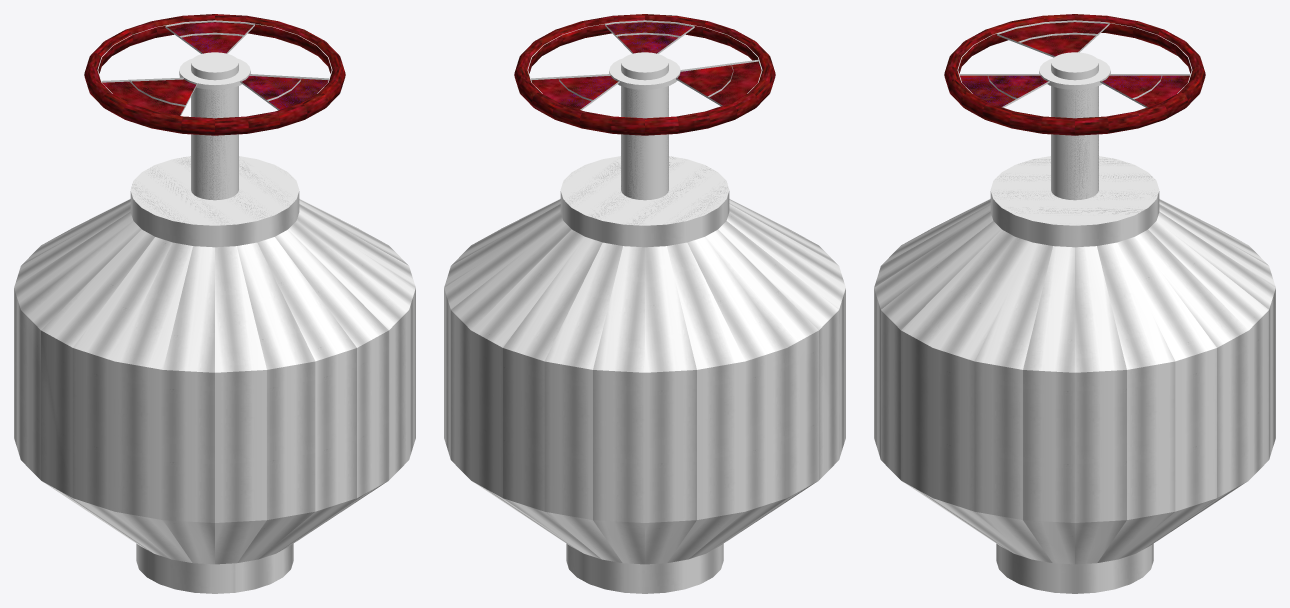
File: 排水管阀门.dae
The picture shows the model from 3 angles, left to right: view 1: azimuth 30°, elevation 25°; view 2: azimuth 150°, elevation 25°; view 3: azimuth 270°, elevation 25°; orthographic projection.
Parts seen in each view (by area): view 1: SketchUp (×9); view 2: SketchUp (×9); view 3: SketchUp (×9).
Part boxes in pixels (x1=…): SketchUp (×9): x1=14, y1=14, x2=415, y2=593; SketchUp (×9): x1=444, y1=14, x2=845, y2=593; SketchUp (×9): x1=874, y1=14, x2=1275, y2=593.
Size of the model in its own units: 11.81 by 11.81 by 16.16.
Materials: 4 (3 with a texture image).
